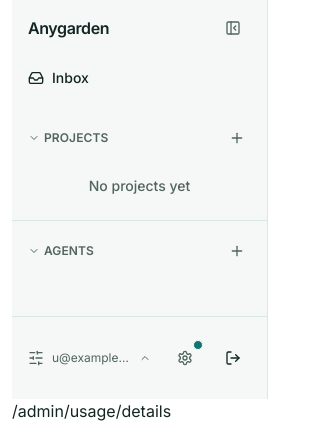
Scenario: Sidebar — footer admin menu (#699) › marks the current route and exposes server updates on the Machines link
Click the button named "Admin settings, update available".
click(185, 358)  # box [163,336,207,380]
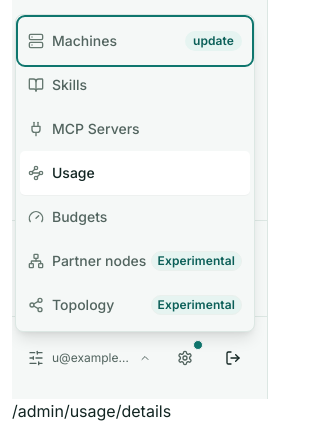
Result: the button "Machines update" is shown at [20,19,250,63]
